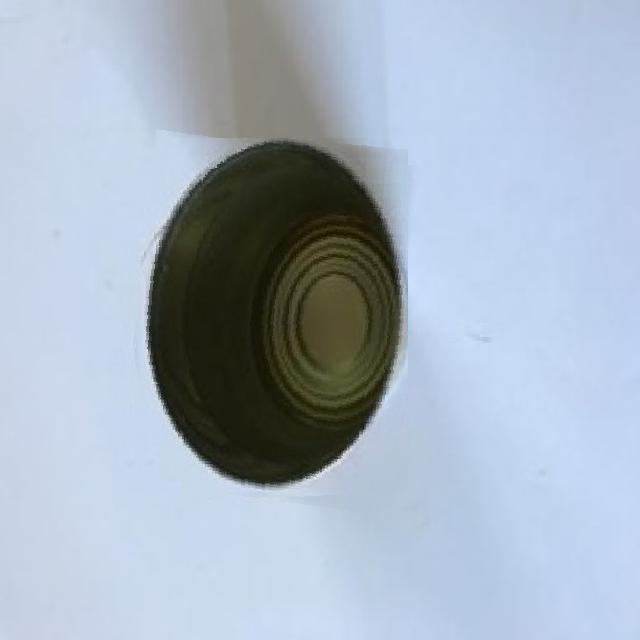recyclable: (119, 138, 408, 505)
